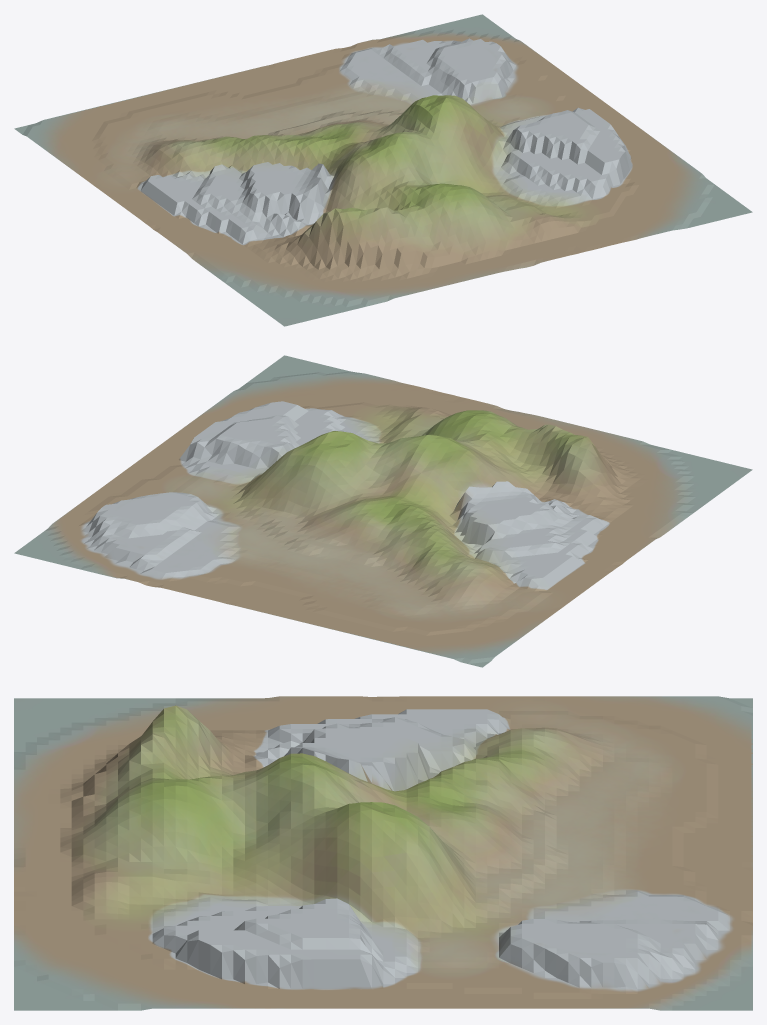
Rendered from NewIsland3.fbx.
3 renders of one model, top to bottom at view 1: azimuth 30°, elevation 25°; view 2: azimuth 150°, elevation 25°; view 3: azimuth 270°, elevation 25°, orthographic. The views are drawn at different scales.
Visible parts, largest first — view 1: NewIsland_64; view 2: NewIsland_64; view 3: NewIsland_64.
Boxes of the visible parts, bbox=[...] form: NewIsland_64: bbox=[14, 14, 752, 326]; NewIsland_64: bbox=[14, 355, 752, 667]; NewIsland_64: bbox=[14, 696, 752, 1010].
Bounding box in the file's own units: 100000 × 12562 × 100000.
1 material, 1 textured.
